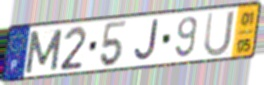2: (59, 24, 88, 72)
5: (98, 19, 128, 69)
9: (174, 15, 199, 59)
J: (132, 17, 160, 63)
M: (23, 27, 65, 75)
U: (202, 9, 237, 59)
